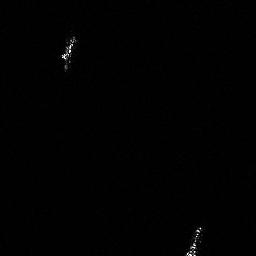ship: (182, 220, 207, 256)
